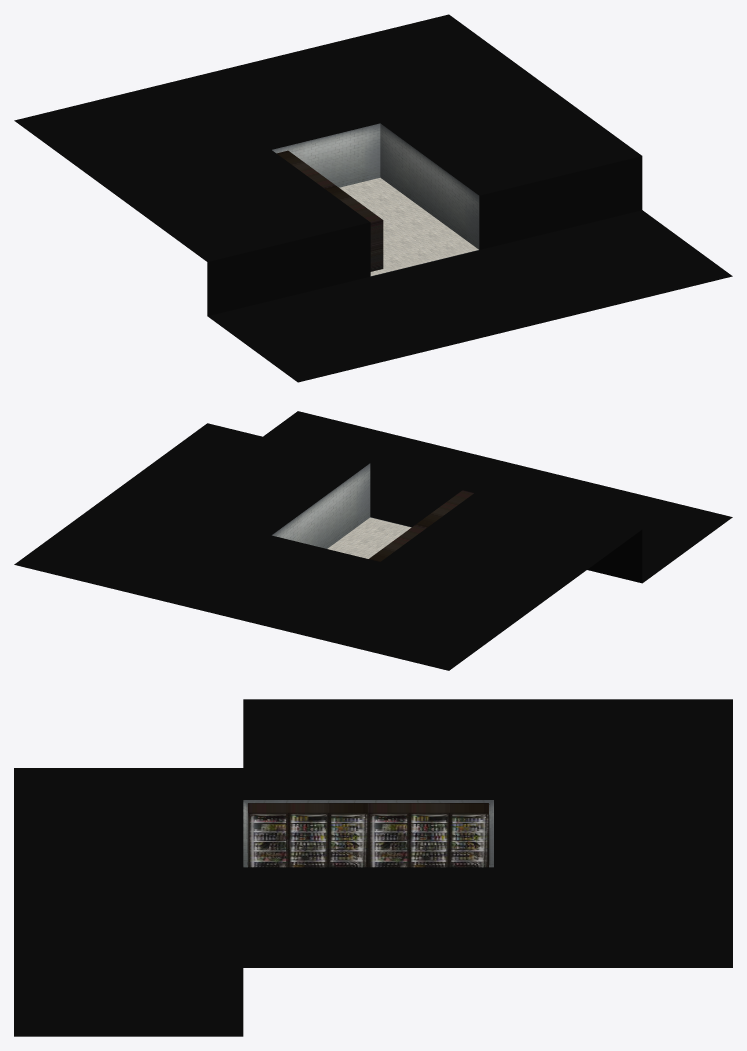
Rendered from mod_cstore.fbx.
3 renders of one model, top to bottom at view 1: azimuth 30°, elevation 25°; view 2: azimuth 150°, elevation 25°; view 3: azimuth 270°, elevation 25°, orthographic. The views are drawn at different scales.
Visible parts, largest first — view 1: polySurface6; view 2: polySurface6; view 3: polySurface6.
Boxes of the visible parts, x1=… form: polySurface6: x1=14, y1=14, x2=732, y2=382; polySurface6: x1=14, y1=411, x2=732, y2=670; polySurface6: x1=14, y1=699, x2=732, y2=1036.
Size of the model in its own units: 64.2 by 7.67 by 72.58.
